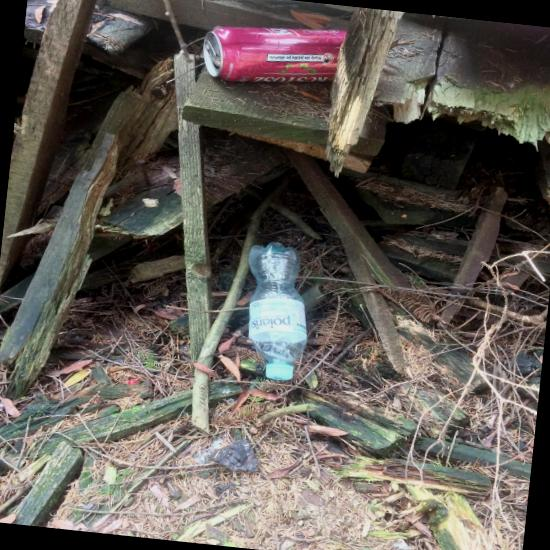Clear plastic bottle: (248, 242, 307, 380)
Drink can: (203, 27, 347, 82)
Plastic bottle cap: (266, 367, 293, 380)
Pop tab: (205, 40, 217, 61)
